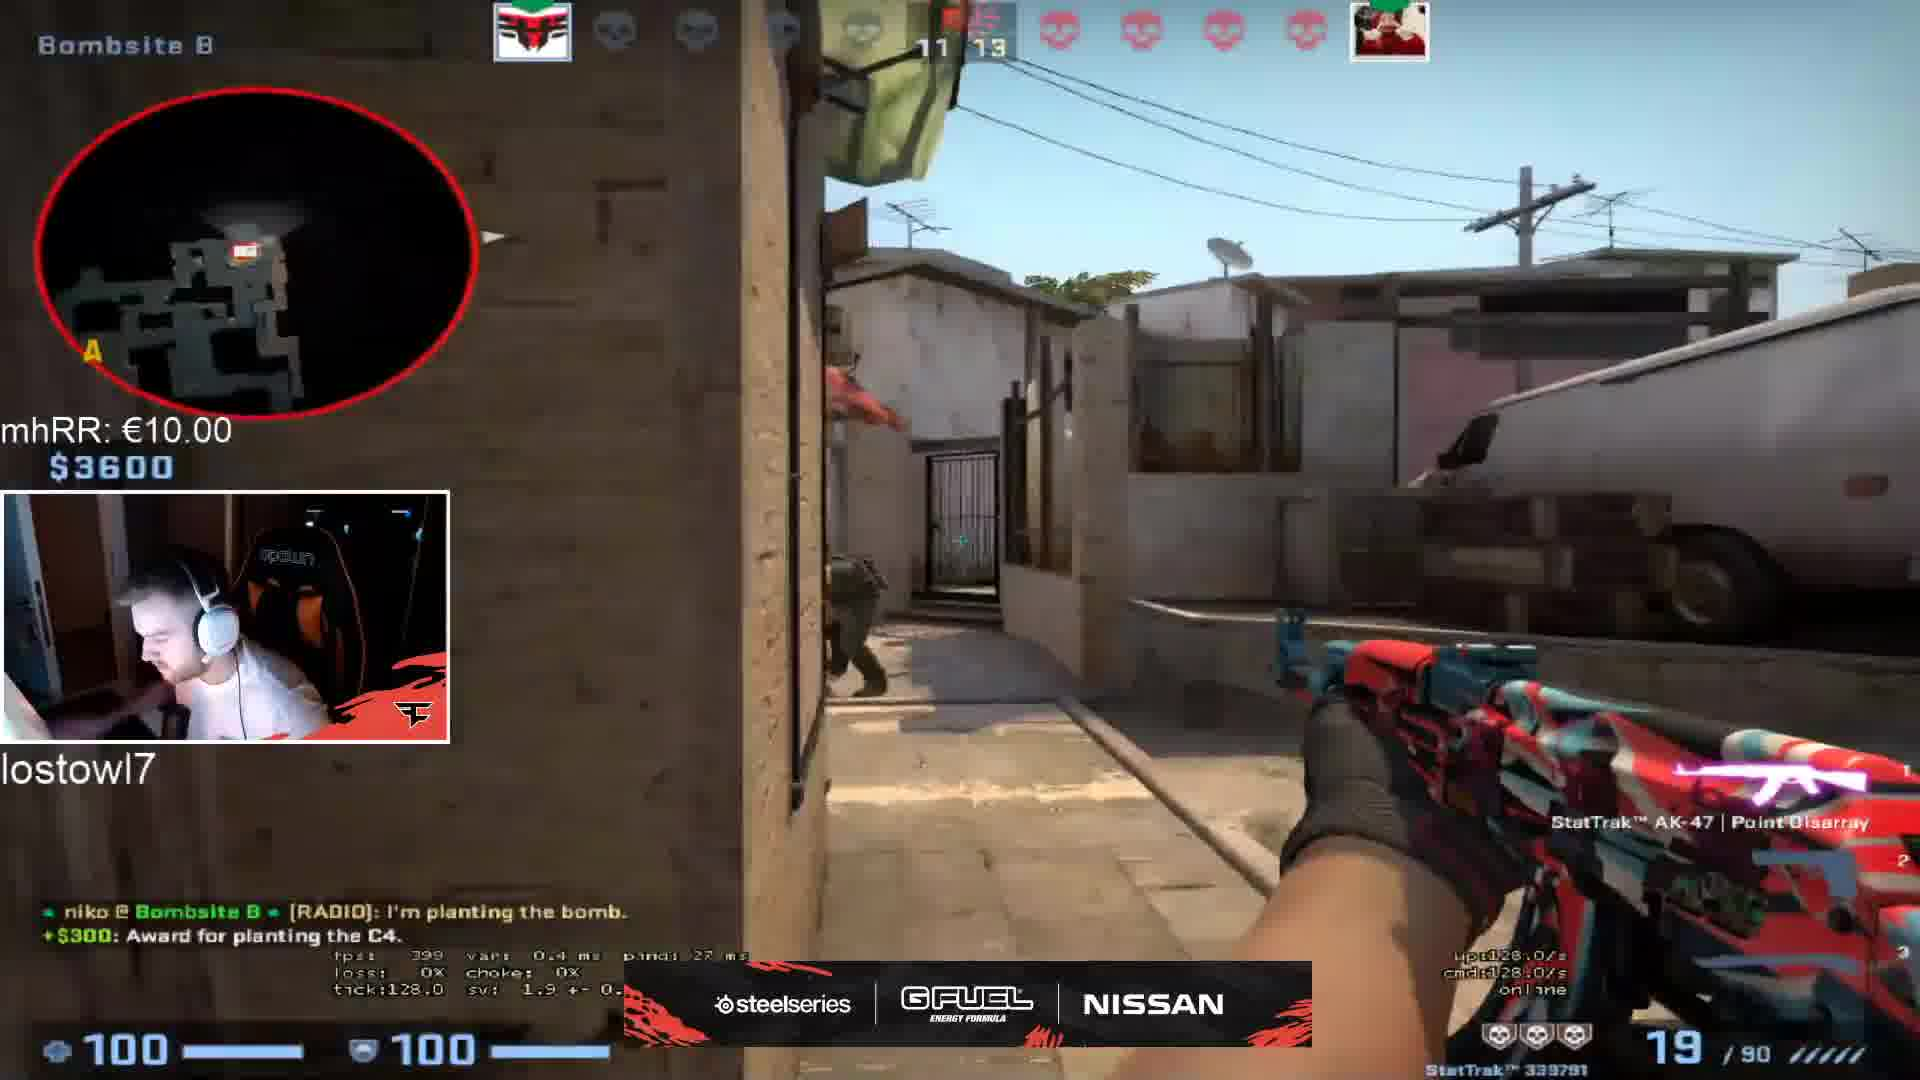enemy: (815, 531, 914, 709)
